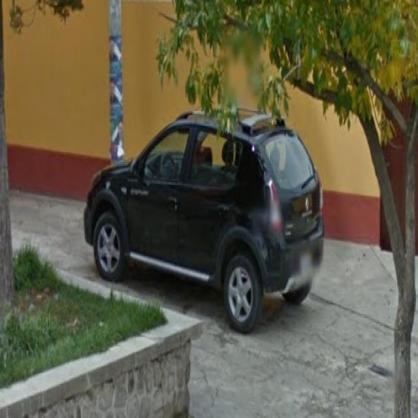car: (88, 115, 328, 334)
